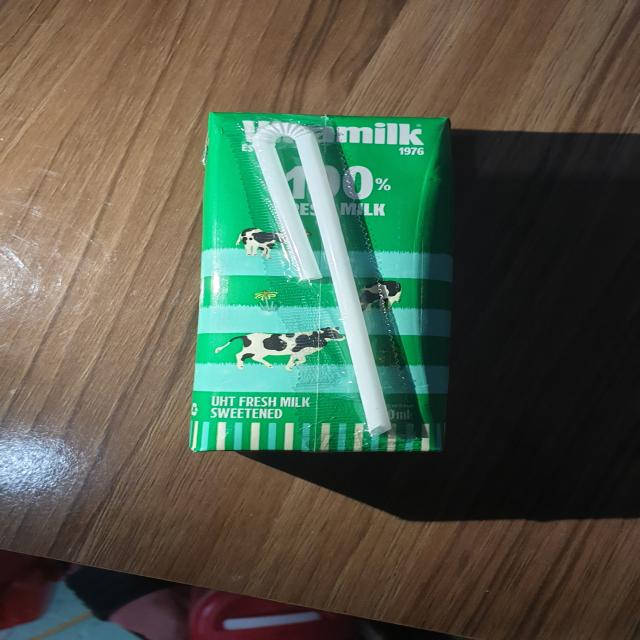Vina: (190, 107, 464, 463)
